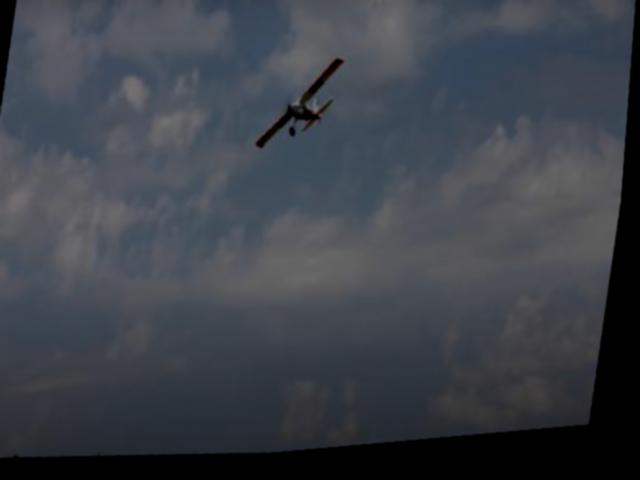uav: (256, 55, 348, 160)
